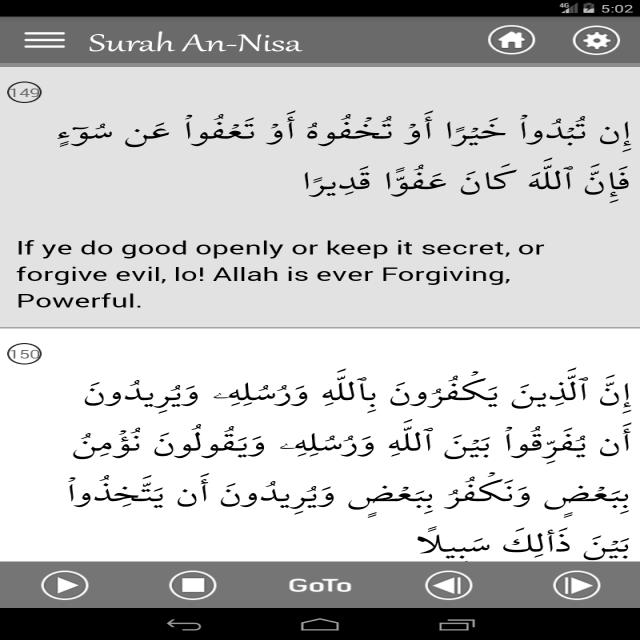TextView: (85, 368, 620, 548), (70, 110, 620, 212), (6, 232, 489, 320)
